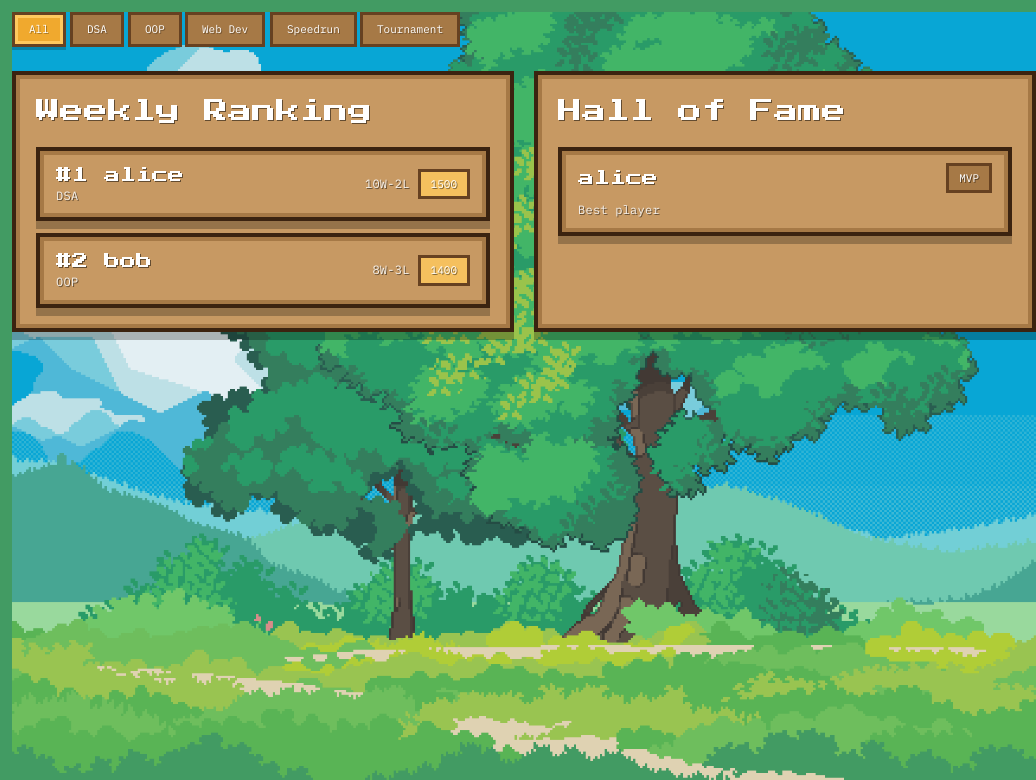
it: LeaderboardFilters › switches to category view on tab click
Expected: the text "#1 alice" is shown, [56, 162, 184, 186]
Click the button "DSA" at (97, 29), box [70, 12, 124, 46]
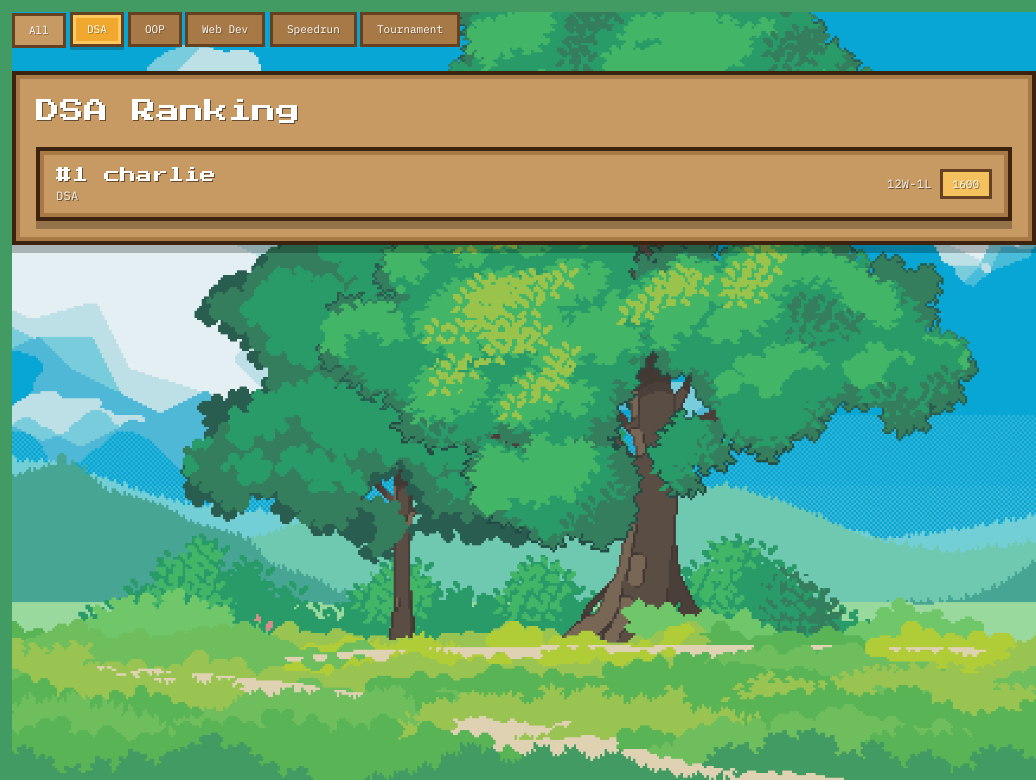
Expected: the text "#1 charlie" is shown, [56, 162, 216, 186]
